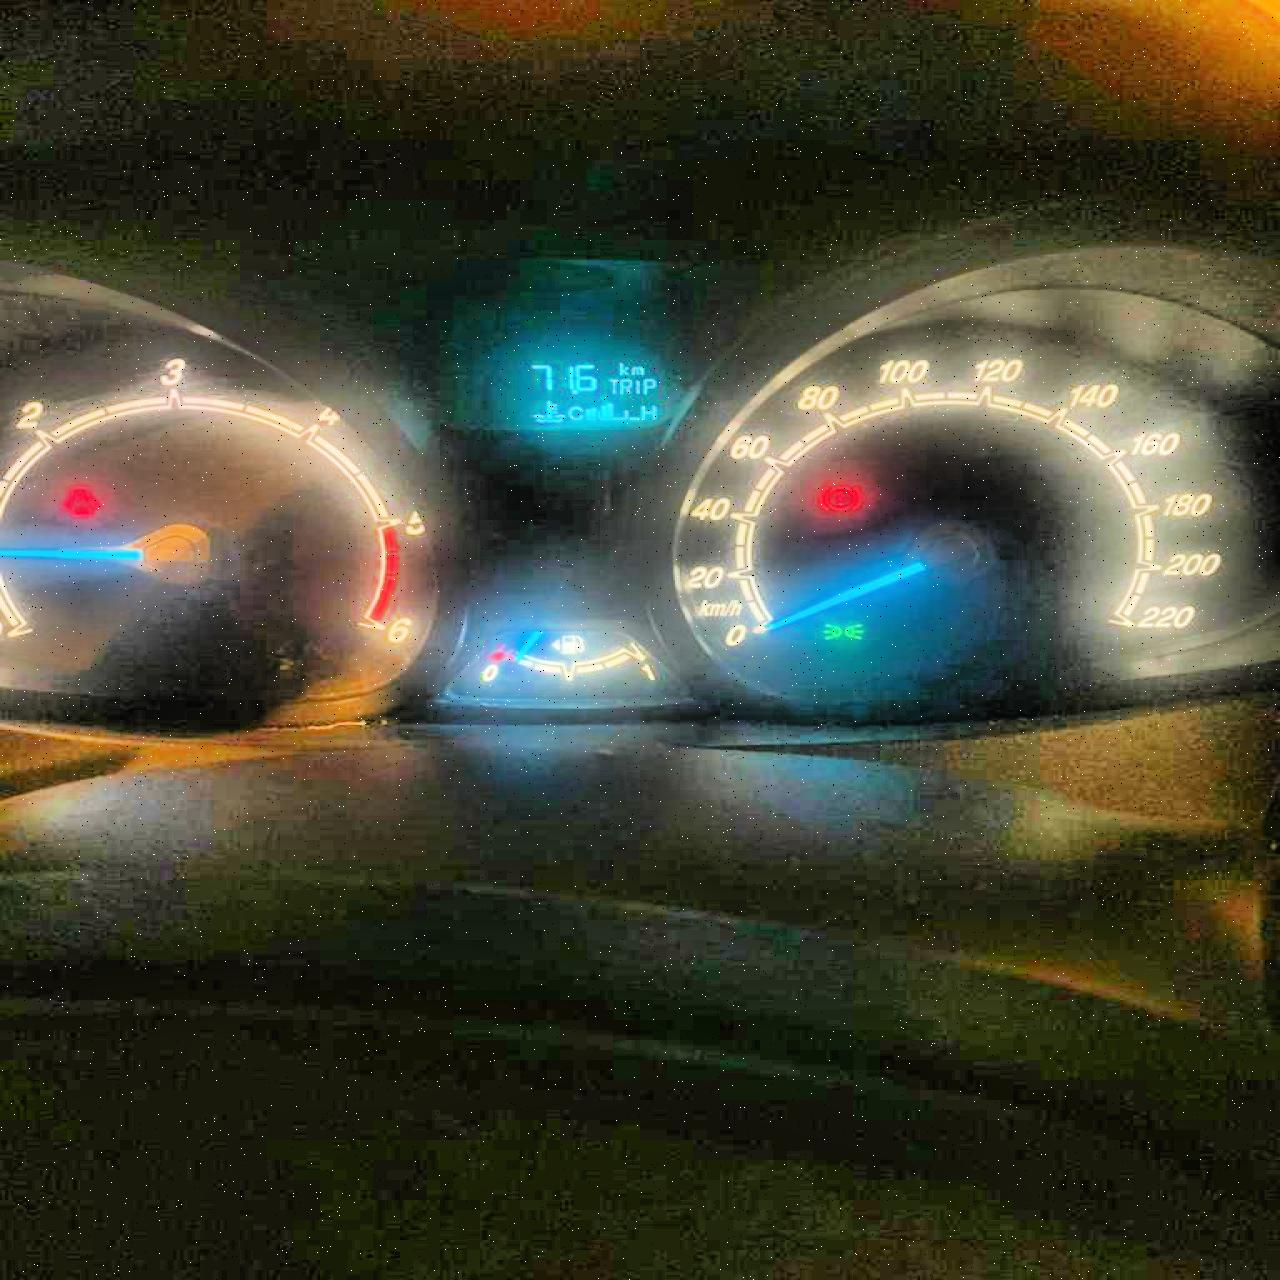-: (570, 387, 578, 395)
1: (560, 362, 573, 390)
6: (573, 362, 599, 390)
7: (526, 362, 556, 392)
X: (640, 375, 656, 395), (639, 402, 656, 420), (565, 404, 584, 420), (618, 377, 632, 394), (614, 360, 628, 375), (607, 377, 618, 394), (629, 365, 645, 375), (632, 379, 640, 394)
odometer: (462, 348, 692, 434)
